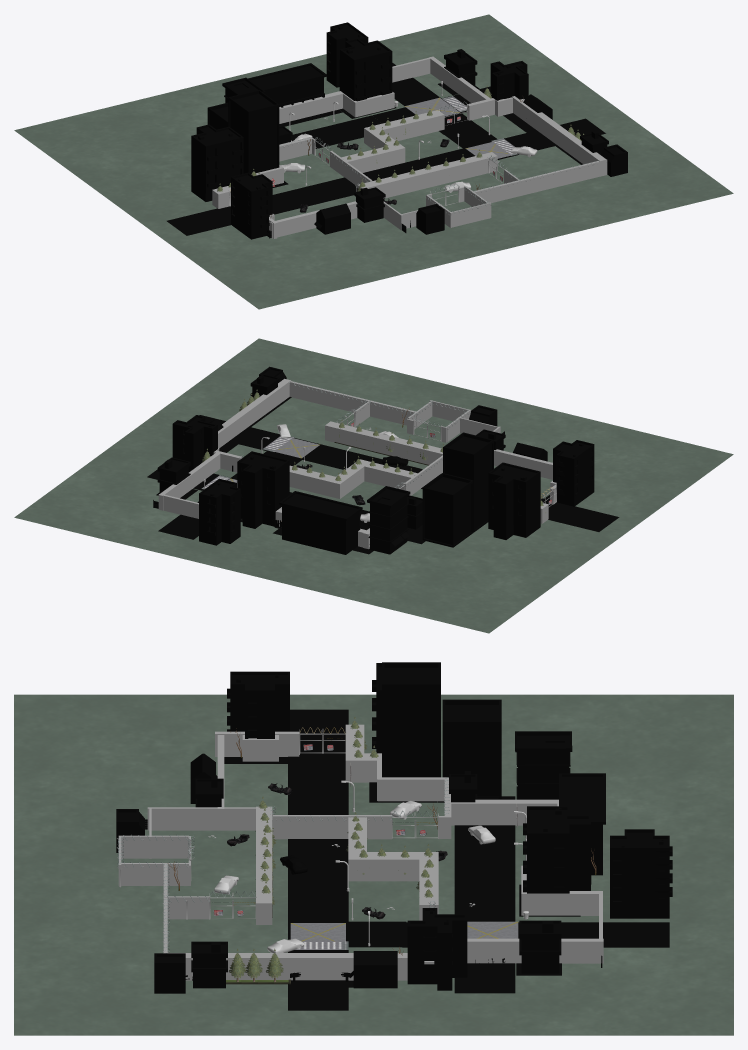
The model's file is BG_04_city_01.fbx.
The picture shows the model from 3 angles, top to bottom: view 1: azimuth 30°, elevation 25°; view 2: azimuth 150°, elevation 25°; view 3: azimuth 270°, elevation 25°; orthographic projection. The views are drawn at different scales.
Visible parts, largest first — view 1: map_01, cube, iteam_map, frand; view 2: map_01, cube, iteam_map, frand; view 3: map_01, cube, iteam_map, frand.
Boxes of the visible parts, x1=… form: map_01: x1=14, y1=14, x2=733, y2=309; cube: x1=212, y1=56, x2=607, y2=238; iteam_map: x1=271, y1=81, x2=537, y2=212; frand: x1=228, y1=108, x2=607, y2=214; map_01: x1=14, y1=338, x2=733, y2=633; cube: x1=158, y1=378, x2=556, y2=549; iteam_map: x1=203, y1=408, x2=409, y2=522; frand: x1=289, y1=381, x2=556, y2=504; map_01: x1=14, y1=662, x2=733, y2=1035; cube: x1=118, y1=724, x2=603, y2=980; iteam_map: x1=167, y1=763, x2=528, y2=952; frand: x1=116, y1=727, x2=449, y2=953.
Size of the model in its own units: 10113 by 1606 by 9028.
